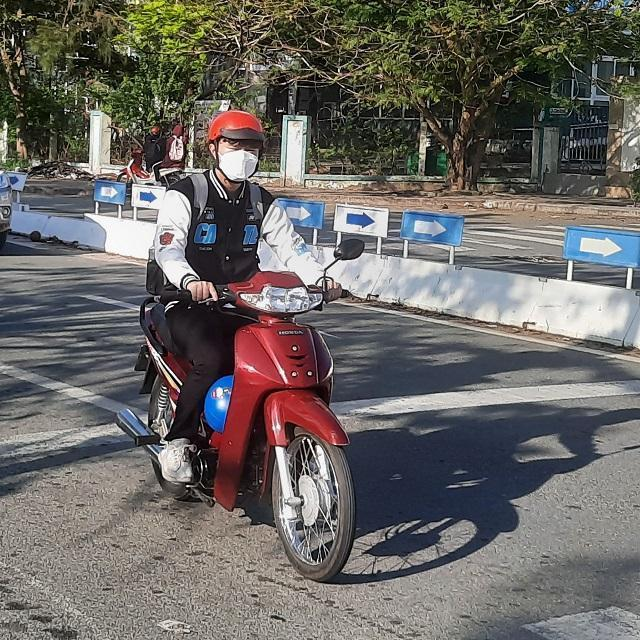Helmet: (204, 108, 272, 188)
